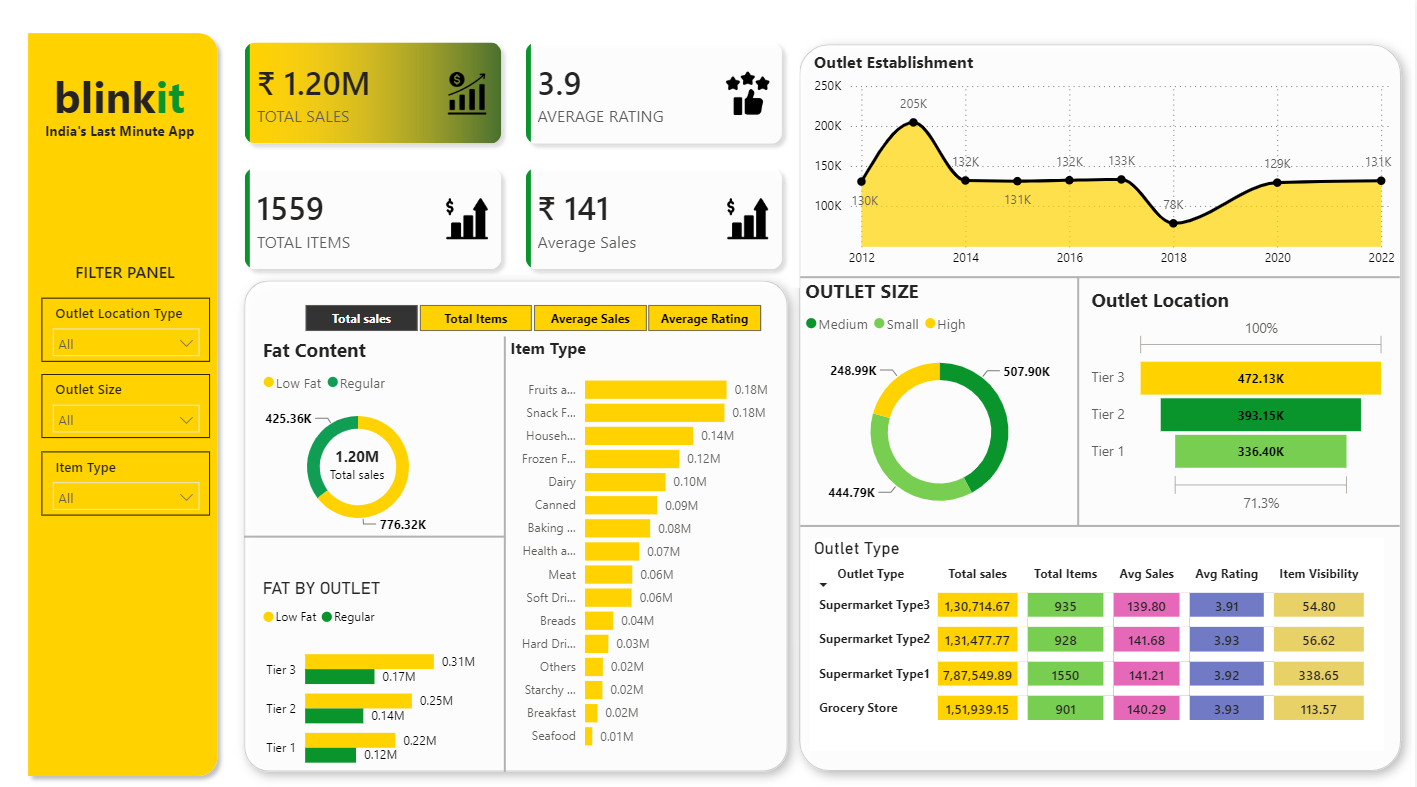

The page's visual inventory and layout, read from the dashboard file:
{"tool":"powerbi","page":{"name":"Page 1","canvas":[1400,800],"ordinal":0},"visuals":[{"type":"shape","box":[775.6,30,624.4,747.8],"z":0},{"type":"cardVisual","fields":{"Data":["Sum(BlinkIT Grocery Data.Total Sales)","BlinkIT Grocery Data.Total Items","Avg(BlinkIT Grocery Data.Rating)","BlinkIT Grocery Data.AVERAGE SALES"]},"box":[226.4,25.4,564.7,259.4],"z":1000},{"type":"shape","box":[226.7,263.3,566.7,515],"z":2000},{"type":"shape","box":[20,25,205,751.7],"z":3000},{"type":"textbox","box":[49.5,61.5,150.1,81],"z":4000},{"type":"textbox","box":[40.5,115.6,166.6,36],"z":5000},{"type":"donutChart","title":"Fat Content","fields":{"Y":["BlinkIT Grocery Data.Total sales"],"Category":["BlinkIT Grocery Data.Item Fat Content"]},"box":[255.6,333.2,198.4,203.5],"z":6000},{"type":"slicer","fields":{"Values":["Metrics.Metrics"]},"box":[276,295.1,499.8,34.3],"z":7000},{"type":"cardVisual","fields":{"Data":["BlinkIT Grocery Data.Total sales"]},"box":[311.6,435,85.2,48.3],"z":8000},{"type":"clusteredBarChart","title":"FAT BY OUTLET","fields":{"Y":["BlinkIT Grocery Data.Total sales"],"Category":["BlinkIT Grocery Data.Outlet Location Type"],"Series":["BlinkIT Grocery Data.Item Fat Content"]},"box":[255,571.7,220,205],"z":9000},{"type":"shape","box":[241.6,526.5,258.2,10.2],"z":10000},{"type":"shape","box":[465,333.3,68.3,430],"z":11000},{"type":"barChart","title":"Item Type","fields":{"Y":["BlinkIT Grocery Data.Total sales"],"Category":["BlinkIT Grocery Data.Item Type"]},"box":[499.8,333.2,264.5,418.4],"z":12000},{"type":"lineChart","title":"Outlet Establishment","fields":{"Category":["BlinkIT Grocery Data.Outlet Establishment Year"],"Y":["BlinkIT Grocery Data.Total sales"]},"box":[800,51.1,583.3,223.3],"z":13000},{"type":"shape","box":[791.1,264.4,592.2,21.1],"z":14000},{"type":"donutChart","title":"OUTLET SIZE","fields":{"Y":["BlinkIT Grocery Data.Total sales"],"Category":["BlinkIT Grocery Data.Outlet Size"]},"box":[791.1,275.6,275.6,250],"z":15000},{"type":"funnel","title":"Outlet Location ","fields":{"Category":["BlinkIT Grocery Data.Outlet Location Type"],"Y":["Sum(BlinkIT Grocery Data.Sales)"]},"box":[1074.4,284.4,301.1,228.9],"z":16000},{"type":"pivotTable","title":"Outlet Type","fields":{"Rows":["BlinkIT Grocery Data.Outlet Type"],"Values":["BlinkIT Grocery Data.Total sales","BlinkIT Grocery Data.Total Items","BlinkIT Grocery Data.Average Sales","BlinkIT Grocery Data.Average Rating","Sum(BlinkIT Grocery Data.Item Visibility)"]},"box":[800,531.7,568.3,210],"z":17000},{"type":"shape","box":[791.1,510,592.2,21.1],"z":18000},{"type":"shape","box":[1031.1,274.4,70,246.7],"z":19000},{"type":"slicer","fields":{"Values":["BlinkIT Grocery Data.Outlet Location Type"]},"box":[41.7,295,166.7,63.3],"z":20000},{"type":"slicer","fields":{"Values":["BlinkIT Grocery Data.Outlet Size"]},"box":[41.7,370,166.7,63.3],"z":21000},{"type":"slicer","fields":{"Values":["BlinkIT Grocery Data.Item Type"]},"box":[41.7,446.7,166.7,63.3],"z":22000},{"type":"textbox","box":[63.3,253.3,123.3,58.3],"z":23000}]}

Visuals, with their boxes in screenshot pixels (x1, y1, x2, y2), scaled from the page's 1400x800 canvas onto the 1417x787 screenshot:
shape: x1=785 y1=30 x2=1416 y2=765
cardVisual - Sum(BlinkIT Grocery Data.Total Sales) x BlinkIT Grocery Data.Total Items: x1=229 y1=25 x2=801 y2=280
shape: x1=229 y1=259 x2=803 y2=766
shape: x1=20 y1=25 x2=228 y2=764
textbox: x1=50 y1=61 x2=202 y2=140
textbox: x1=41 y1=114 x2=210 y2=149
"Fat Content" donutChart: x1=259 y1=328 x2=460 y2=528
slicer - Metrics.Metrics: x1=279 y1=290 x2=785 y2=324
cardVisual - BlinkIT Grocery Data.Total sales: x1=315 y1=428 x2=402 y2=475
"FAT BY OUTLET" clusteredBarChart: x1=258 y1=562 x2=481 y2=764
shape: x1=245 y1=518 x2=506 y2=528
shape: x1=471 y1=328 x2=540 y2=751
"Item Type" barChart: x1=506 y1=328 x2=774 y2=739
"Outlet Establishment" lineChart: x1=810 y1=50 x2=1400 y2=270
shape: x1=801 y1=260 x2=1400 y2=281
"OUTLET SIZE" donutChart: x1=801 y1=271 x2=1080 y2=517
"Outlet Location " funnel: x1=1087 y1=280 x2=1392 y2=505
"Outlet Type" pivotTable: x1=810 y1=523 x2=1385 y2=730
shape: x1=801 y1=502 x2=1400 y2=522
shape: x1=1044 y1=270 x2=1114 y2=513
slicer - BlinkIT Grocery Data.Outlet Location Type: x1=42 y1=290 x2=211 y2=352
slicer - BlinkIT Grocery Data.Outlet Size: x1=42 y1=364 x2=211 y2=426
slicer - BlinkIT Grocery Data.Item Type: x1=42 y1=439 x2=211 y2=502
textbox: x1=64 y1=249 x2=189 y2=307
